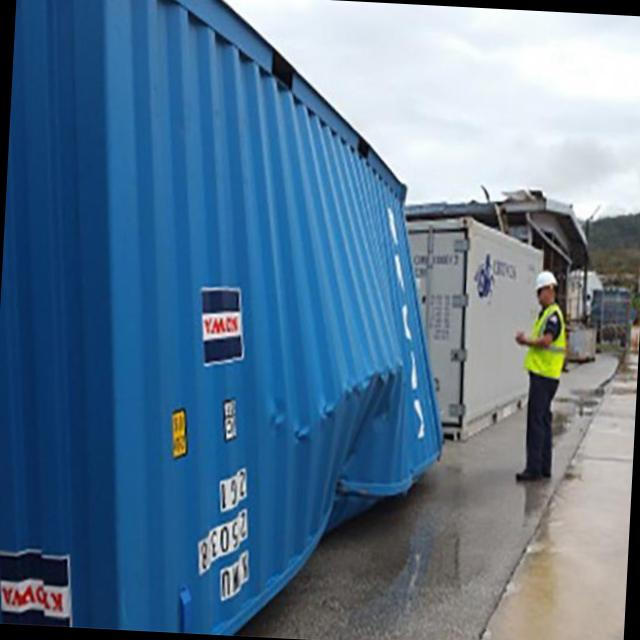Deframe_or_Dent: (93, 2, 443, 631)
